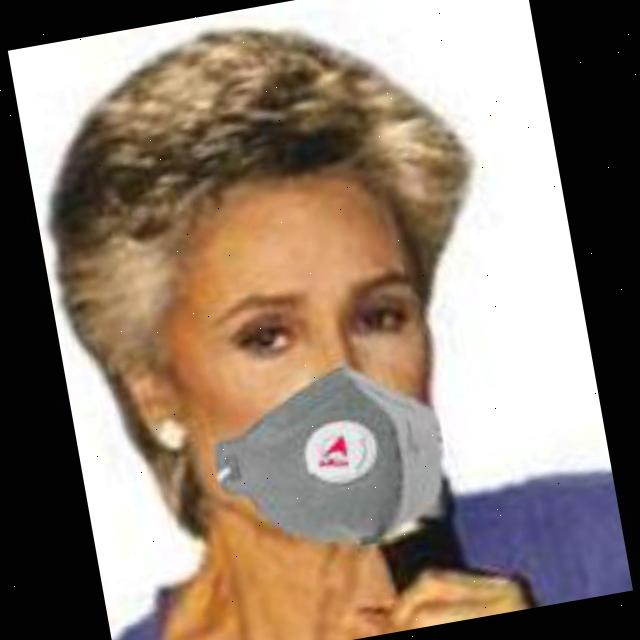suspicion: (131, 114, 478, 578)
